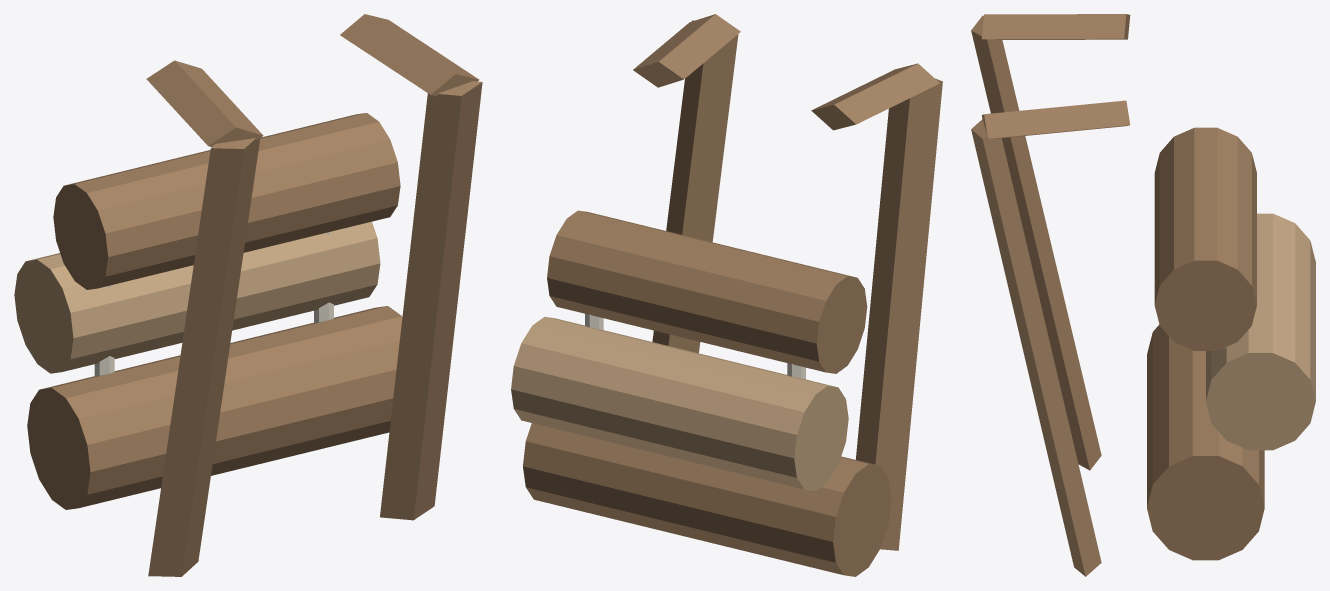
Rendered from load_leather.glb.
The picture shows the model from 3 angles, left to right: view 1: azimuth 30°, elevation 25°; view 2: azimuth 150°, elevation 25°; view 3: azimuth 270°, elevation 25°; orthographic projection. The views are drawn at different scales.
Visible parts, largest first — view 1: Goods.Hide, Goods.Hide#3, Goods.Hide#2, Carry.Strap#3, Carry.Strap, Carry.Strap#2, Carry.Strap#4; view 2: Goods.Hide#2, Goods.Hide#3, Goods.Hide, Carry.Strap, Carry.Strap#3, Carry.Strap#4, Carry.Strap#2; view 3: Goods.Hide#3, Goods.Hide, Goods.Hide#2, Carry.Strap#3, Carry.Strap, Carry.Strap#2, Carry.Strap#4.
Part boxes in pixels (left/top/right/bottom): Goods.Hide: left=27, top=306, right=402, bottom=509; Goods.Hide#3: left=53, top=113, right=400, bottom=289; Goods.Hide#2: left=14, top=221, right=380, bottom=373; Carry.Strap#3: left=380, top=81, right=482, bottom=520; Carry.Strap: left=148, top=138, right=260, bottom=576; Carry.Strap#2: left=146, top=60, right=263, bottom=146; Carry.Strap#4: left=340, top=14, right=479, bottom=96; Goods.Hide#2: left=511, top=317, right=848, bottom=490; Goods.Hide#3: left=547, top=210, right=867, bottom=373; Goods.Hide: left=523, top=423, right=891, bottom=576; Carry.Strap: left=855, top=78, right=942, bottom=550; Carry.Strap#3: left=652, top=20, right=738, bottom=353; Carry.Strap#4: left=633, top=14, right=740, bottom=87; Carry.Strap#2: left=811, top=63, right=939, bottom=130; Goods.Hide#3: left=1154, top=127, right=1256, bottom=350; Goods.Hide: left=1147, top=324, right=1264, bottom=560; Goods.Hide#2: left=1206, top=213, right=1315, bottom=450; Carry.Strap#3: left=971, top=119, right=1101, bottom=576; Carry.Strap: left=971, top=15, right=1101, bottom=470; Carry.Strap#2: left=981, top=14, right=1130, bottom=39; Carry.Strap#4: left=981, top=100, right=1130, bottom=138.
Bounding box in the file's own units: 0.46 × 0.6418 × 0.4385.
